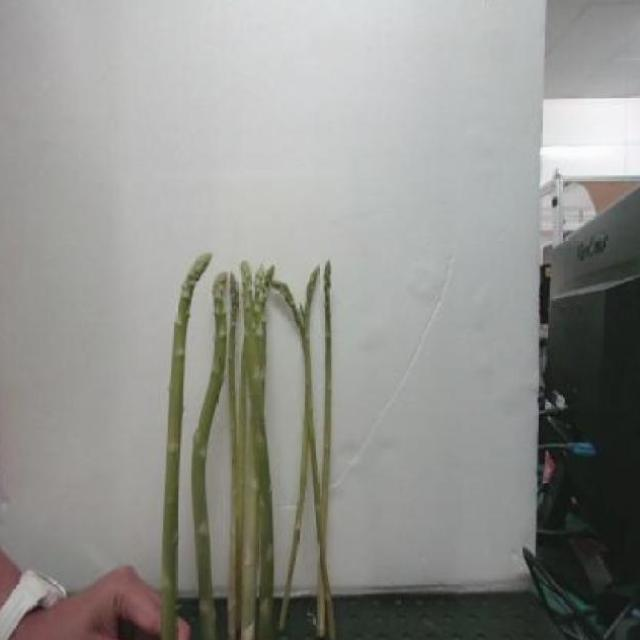aspargus: (162, 255, 212, 640), (191, 264, 233, 640)
